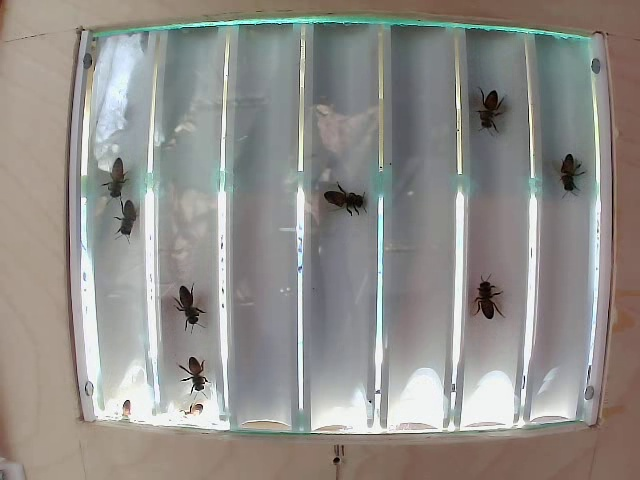bee: (317, 167, 366, 225), (462, 263, 509, 322), (178, 266, 217, 334), (106, 198, 152, 251), (464, 83, 513, 129), (175, 343, 218, 391), (98, 160, 138, 209), (549, 151, 584, 205)
